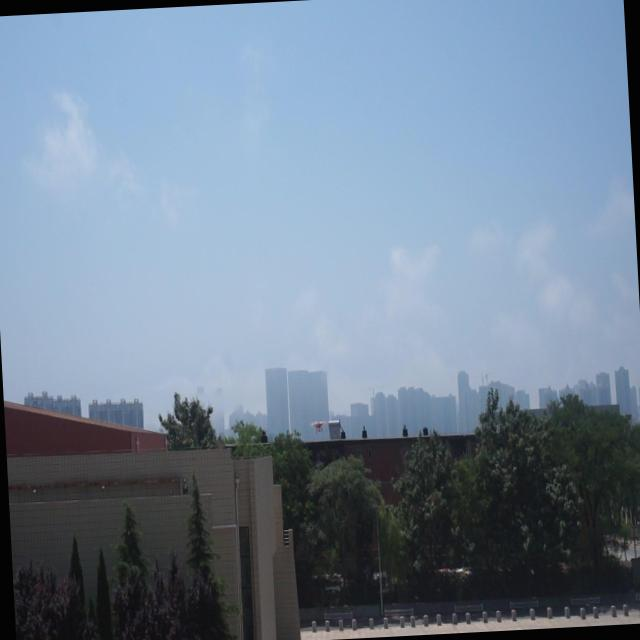drone: (310, 416, 326, 437)
